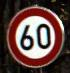Speed Limit -60-: (5, 4, 63, 67)
